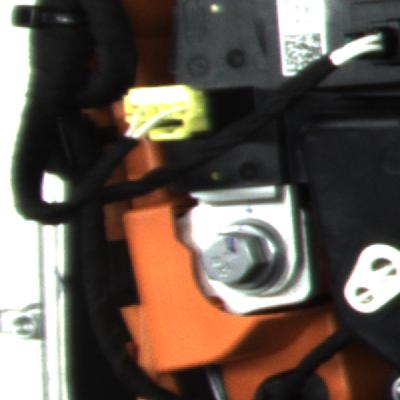nut_b: (193, 213, 292, 300)
